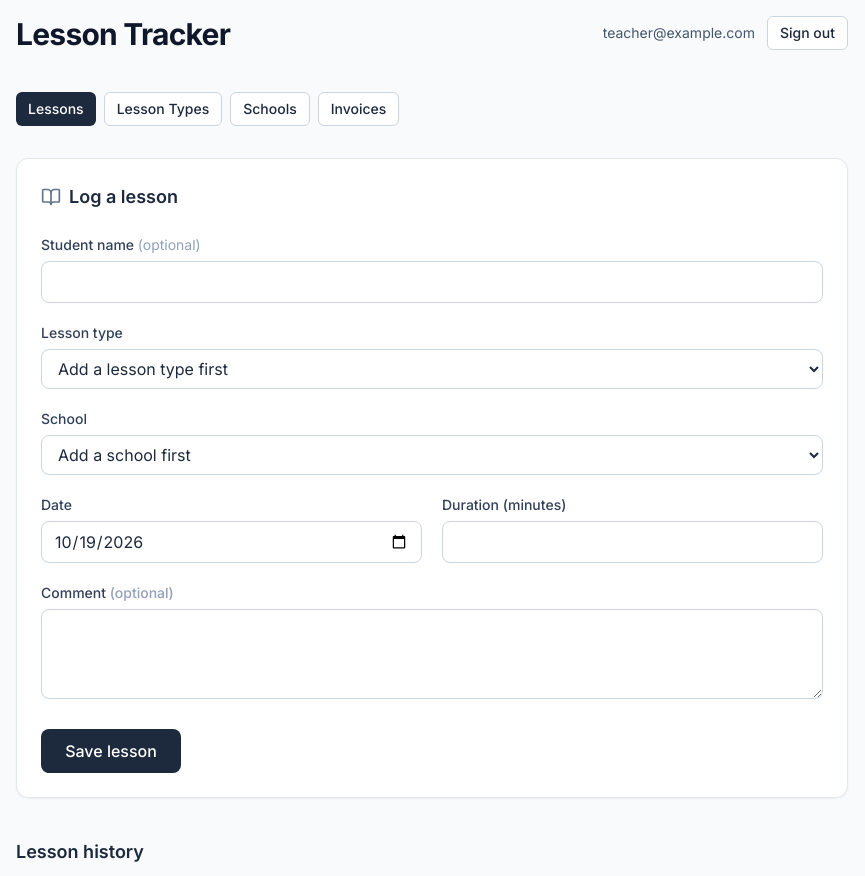
Scenario: App pages › starts on the Lessons page and can switch to Lesson Types, Schools, and Invoices
Expected: the heading "Log a lesson" is shown, [41,186,178,207]
Expected: the heading "Lesson history" is shown, [16,841,144,862]
Click the button "Lesson Types": (163,109) [104,92,222,126]
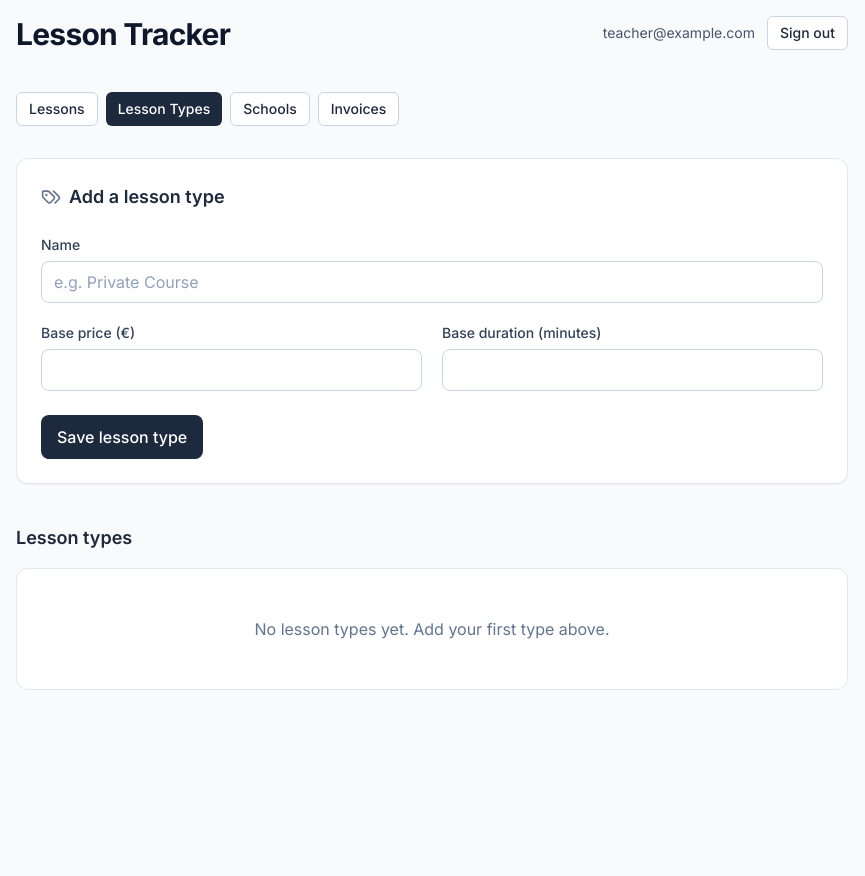
Expected: the heading "Add a lesson type" is shown, [41,186,224,207]
Expected: the heading "Lesson types" is shown, [16,527,132,548]
Click the button "Schools": (270,109) [230,92,310,126]
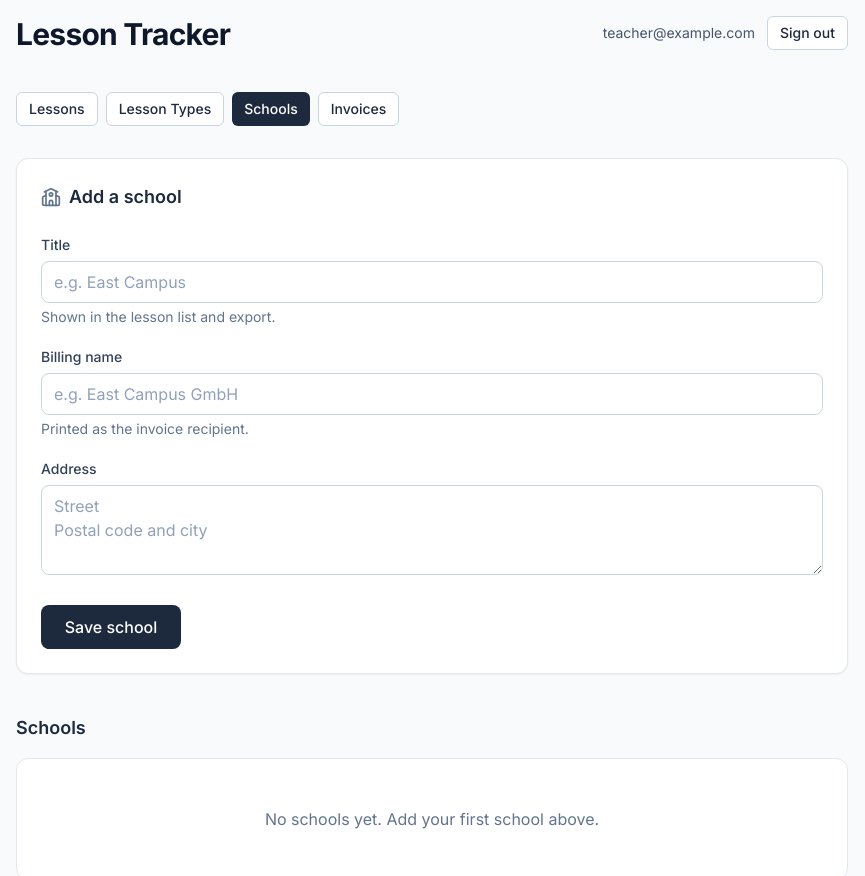
Expected: the heading "Add a school" is shown, [41,186,182,207]
Expected: the heading "Schools" is shown, [16,717,86,738]
Click the button "Invoices": (359,109) [318,92,399,126]
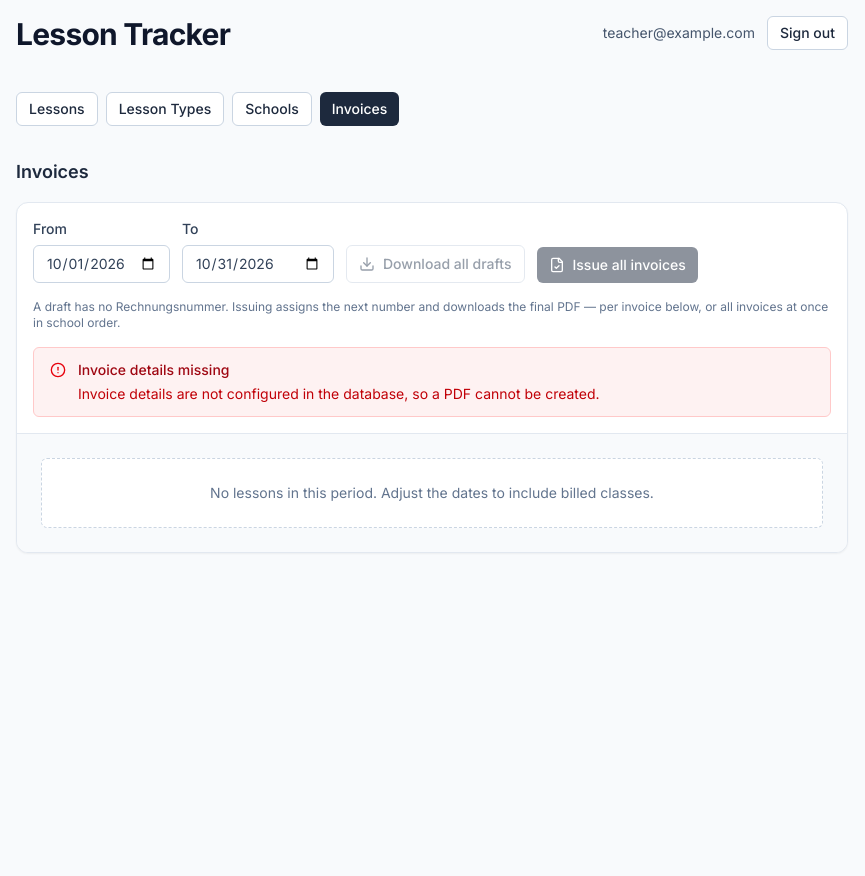
Expected: the heading "Invoices" is shown, [16,161,89,182]
